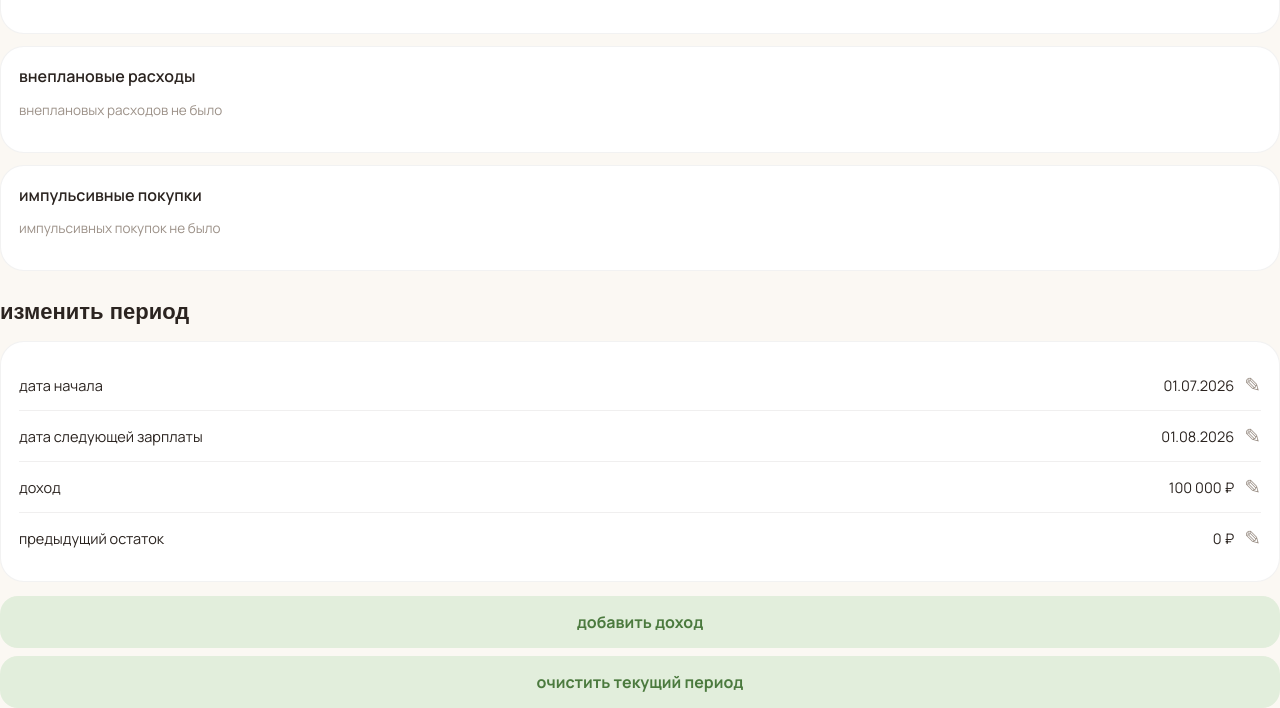
it: period completion UI › uses an in-app confirmation before clearing a period
This screenshot has width=1280, height=708.
(page scrolled)
Click the button "очистить текущий период".
click(640, 682)  # box x1=0 y1=656 x2=1279 y2=707
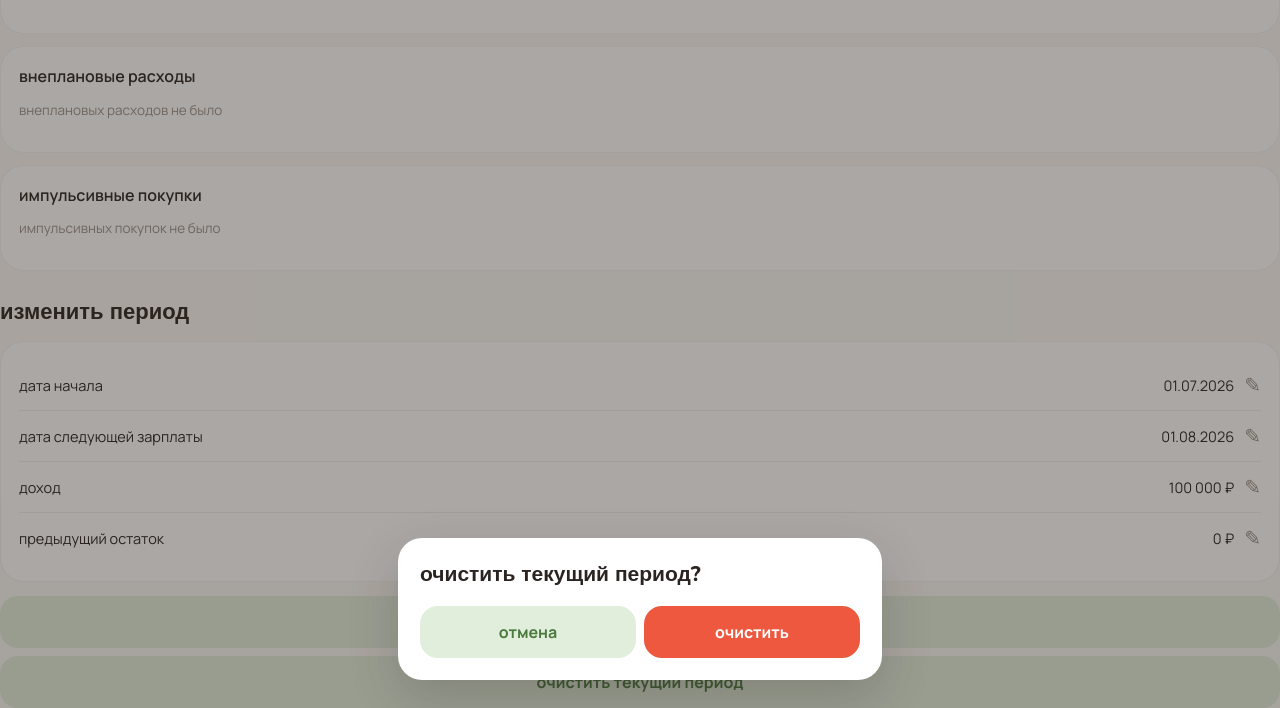
Expected: the dialog "очистить текущий период?" is shown, x1=398 y1=538 x2=882 y2=680
Expected: the button "отмена" is shown, x1=420 y1=606 x2=636 y2=658
Expected: the button "очистить" is shown, x1=644 y1=606 x2=860 y2=658
